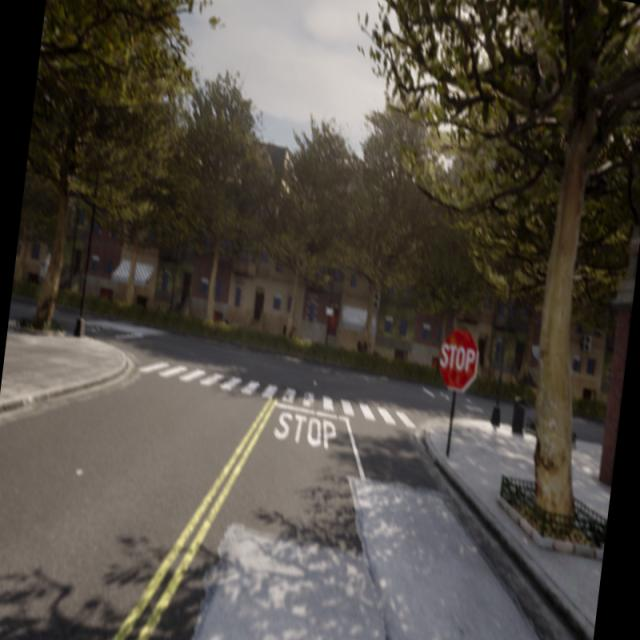stop sign: (435, 325, 480, 394), (438, 342, 476, 374)
